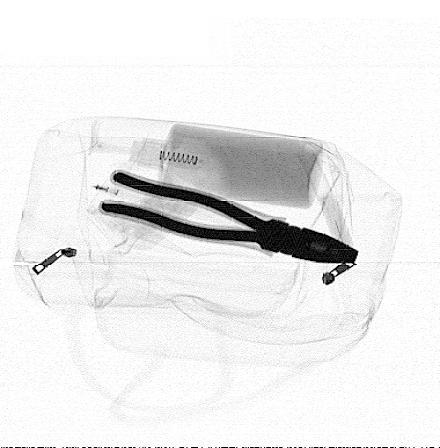Pliers: (98, 170, 361, 267)
